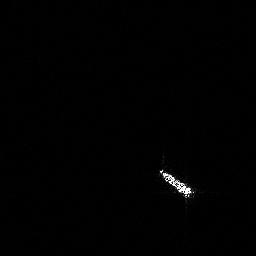ship: (158, 169, 193, 196)
